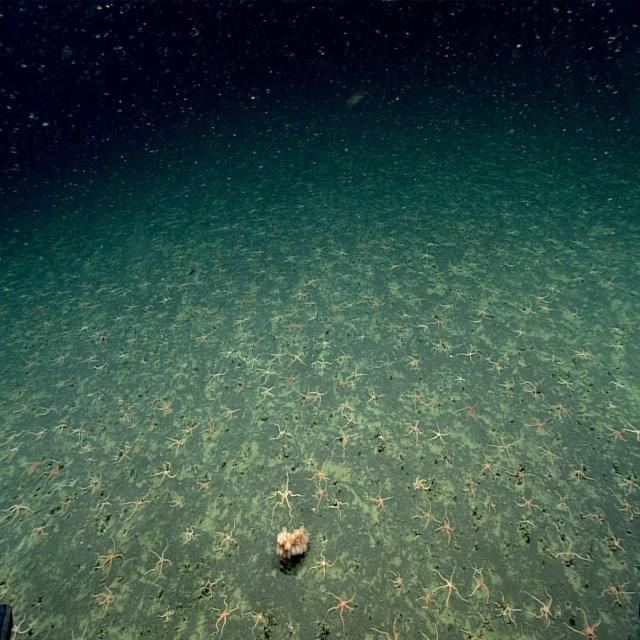brittle-stars: (266, 470, 306, 517), (325, 584, 361, 633), (201, 594, 238, 639), (526, 582, 558, 634), (91, 530, 127, 576), (562, 599, 602, 640), (141, 534, 173, 582), (492, 588, 524, 636), (434, 563, 465, 610), (118, 485, 154, 521), (550, 538, 588, 572), (308, 543, 338, 583), (600, 574, 630, 612), (486, 428, 518, 462), (416, 581, 442, 619), (369, 482, 398, 516), (94, 576, 117, 618), (368, 616, 404, 640), (509, 489, 544, 513), (470, 572, 493, 608), (617, 490, 640, 525), (607, 523, 627, 563), (245, 601, 268, 633), (193, 569, 220, 596), (400, 419, 428, 445), (213, 523, 237, 553), (329, 428, 353, 458), (508, 463, 539, 486), (271, 409, 290, 446), (3, 499, 29, 526), (326, 495, 353, 521), (150, 461, 178, 486), (9, 611, 33, 640), (415, 497, 436, 530), (308, 456, 331, 486), (425, 419, 454, 442), (564, 462, 590, 487), (333, 389, 357, 416), (524, 412, 548, 438), (42, 456, 65, 483), (535, 440, 559, 464), (440, 506, 456, 542), (620, 411, 640, 439), (65, 621, 94, 640), (1, 420, 22, 446), (460, 395, 483, 418), (478, 454, 500, 478), (23, 455, 46, 477), (605, 424, 628, 446), (412, 470, 430, 498), (310, 487, 330, 512), (30, 518, 49, 544), (194, 473, 218, 493), (181, 520, 198, 548), (160, 434, 188, 451), (364, 379, 380, 408), (90, 496, 113, 516), (416, 623, 443, 640), (388, 569, 406, 594), (49, 420, 70, 441), (85, 473, 107, 493), (554, 397, 570, 424), (113, 446, 134, 466), (57, 492, 76, 514), (525, 384, 547, 403), (585, 505, 605, 525), (72, 436, 94, 454), (28, 426, 52, 442), (313, 380, 329, 404), (497, 377, 518, 395), (158, 600, 174, 623), (37, 399, 57, 417), (9, 401, 32, 416), (232, 374, 252, 391), (424, 388, 440, 409), (482, 490, 496, 513), (463, 475, 477, 497), (405, 390, 423, 407), (220, 402, 236, 421), (64, 424, 85, 438), (622, 476, 640, 492), (558, 369, 574, 387), (186, 420, 201, 439), (342, 415, 357, 433), (486, 358, 505, 372), (85, 451, 102, 466), (5, 447, 22, 462), (261, 381, 278, 396), (0, 574, 9, 602), (260, 364, 278, 378), (168, 497, 184, 512), (460, 347, 478, 360), (205, 425, 216, 446), (68, 471, 82, 487), (209, 368, 225, 382), (161, 399, 172, 419), (302, 386, 312, 406), (148, 392, 162, 406), (570, 348, 593, 356), (55, 480, 68, 494), (284, 369, 296, 384), (472, 563, 483, 579), (204, 379, 215, 392), (454, 374, 466, 384), (122, 409, 132, 421)
